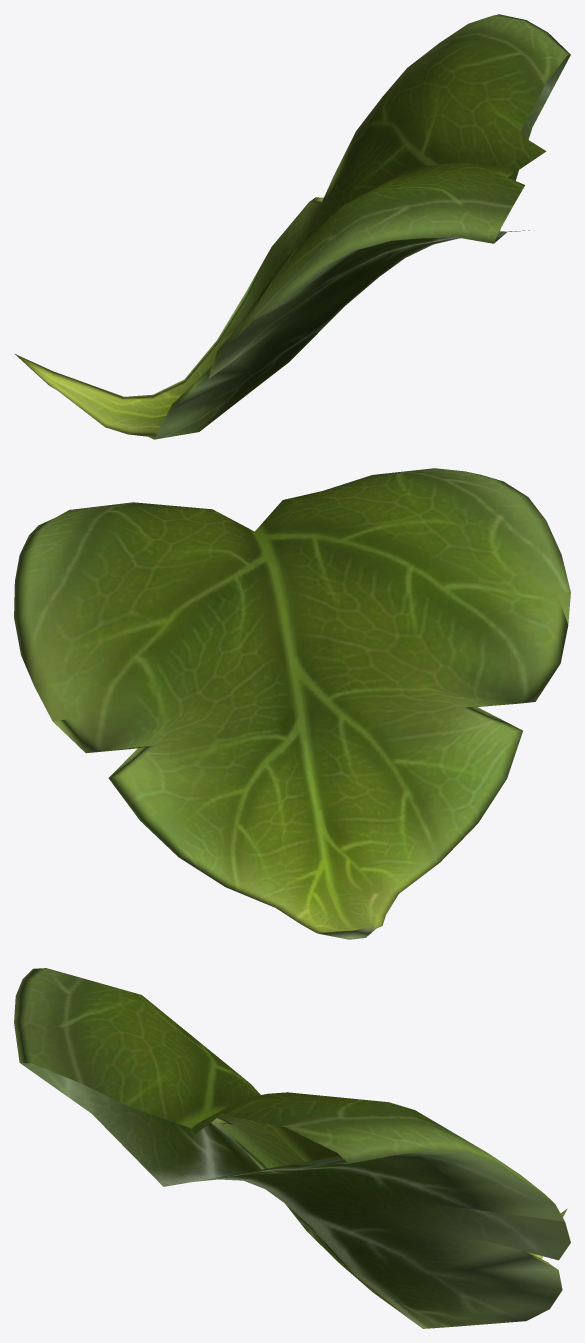
Rendered from sunflower_hoja_tras_der.obj.
3 renders of one model, top to bottom at view 1: azimuth 30°, elevation 25°; view 2: azimuth 150°, elevation 25°; view 3: azimuth 270°, elevation 25°, orthographic. The views are drawn at different scales.
Visible parts, largest first — view 1: sunflower_hoja_tras_der; view 2: sunflower_hoja_tras_der; view 3: sunflower_hoja_tras_der.
Part boxes in pixels (x1,y1,x2,y2): sunflower_hoja_tras_der: (15, 14, 570, 439); sunflower_hoja_tras_der: (14, 468, 570, 939); sunflower_hoja_tras_der: (14, 968, 570, 1328).
Bounding box in the file's own units: 0.2366 × 0.1718 × 0.2368.
